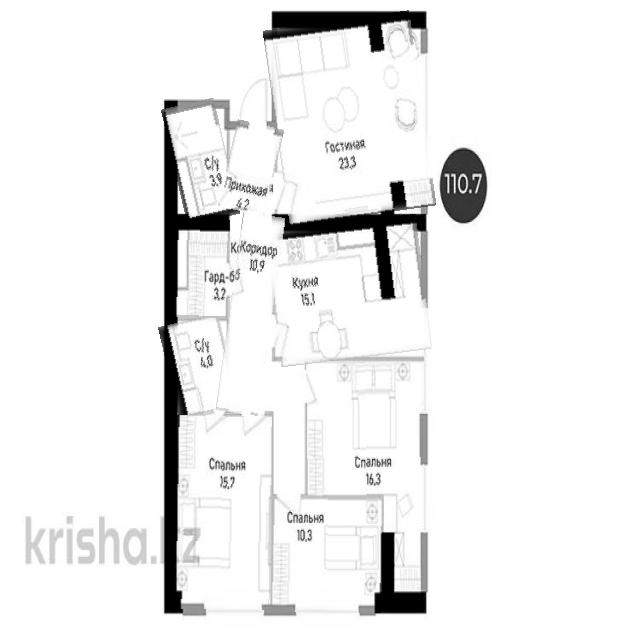bathroom: (168, 100, 235, 223), (163, 316, 236, 419)
hallway: (222, 213, 279, 415), (223, 121, 280, 214)
kitchen: (269, 218, 429, 363)
living_room: (270, 15, 430, 220), (171, 416, 272, 610), (307, 361, 424, 496), (272, 494, 382, 613)
other: (169, 220, 230, 318)
